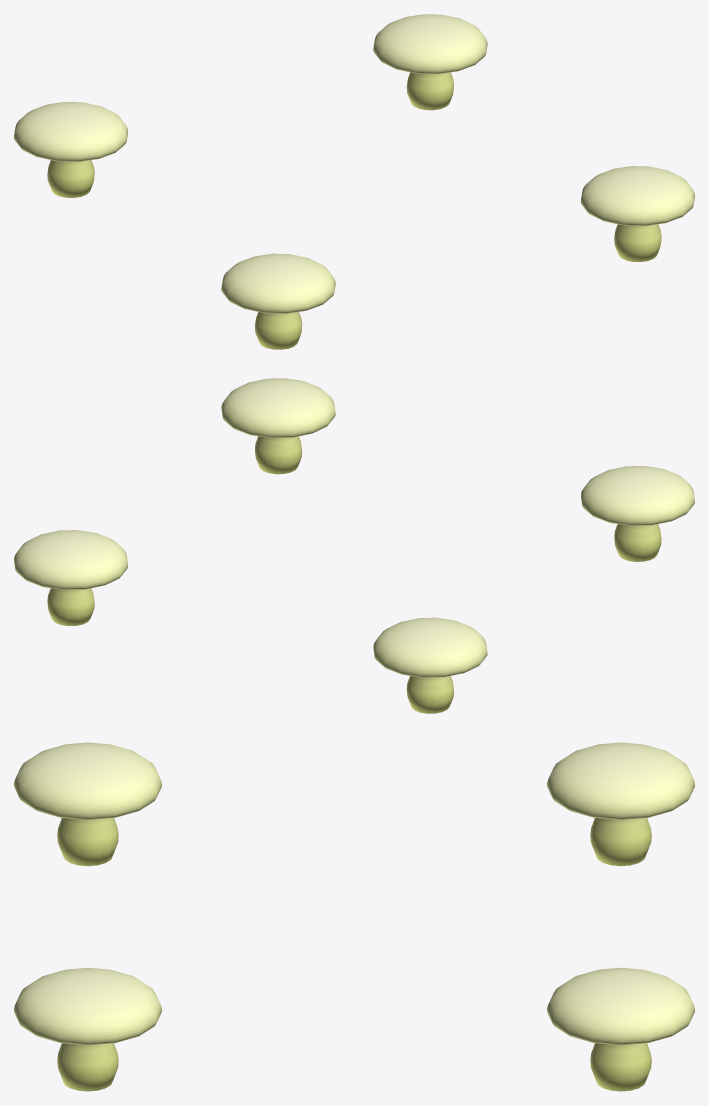
The model's file is Farm_Crop_Mashroom_01_Step_01.fbx.
3 views of the same model, one above another, from view 1: azimuth 30°, elevation 25°; view 2: azimuth 150°, elevation 25°; view 3: azimuth 270°, elevation 25° (orthographic). The views are drawn at different scales.
Parts seen in each view (by area): view 1: Farm_Crop_Mashroom_01_Step_01; view 2: Farm_Crop_Mashroom_01_Step_01; view 3: Farm_Crop_Mashroom_01_Step_01.
Part boxes in pixels (x1,y1,x2,y2): Farm_Crop_Mashroom_01_Step_01: [14, 14, 694, 349]; Farm_Crop_Mashroom_01_Step_01: [14, 378, 694, 713]; Farm_Crop_Mashroom_01_Step_01: [14, 742, 694, 1091].
Bounding box in the file's own units: 128 × 20.21 × 128.
